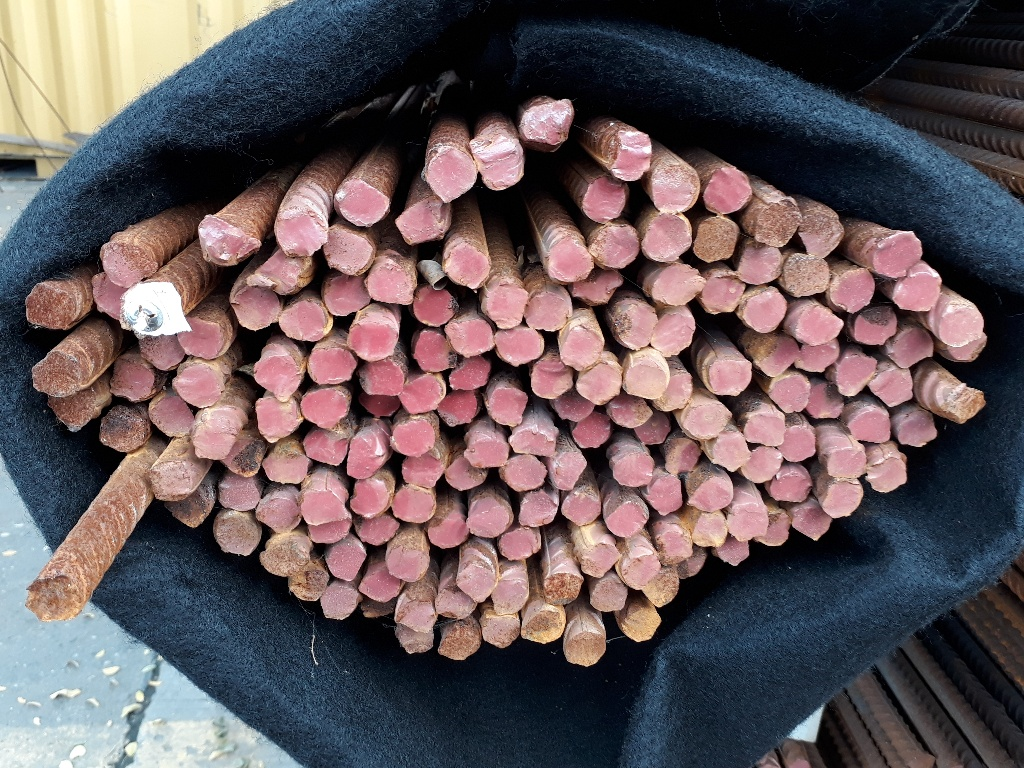dipstick: (194, 216, 261, 264), (471, 137, 525, 191), (649, 161, 701, 217), (518, 97, 579, 144), (333, 179, 390, 229), (252, 349, 307, 400), (426, 147, 476, 203), (230, 280, 287, 329), (871, 234, 926, 282), (347, 311, 398, 362), (26, 575, 79, 624), (252, 395, 302, 445), (641, 215, 693, 262), (322, 227, 374, 274), (607, 130, 653, 182), (652, 262, 705, 307), (162, 481, 211, 529), (98, 408, 150, 453), (704, 168, 751, 217), (611, 298, 658, 347), (260, 439, 310, 485), (368, 259, 416, 306), (120, 289, 169, 335), (274, 212, 324, 257), (588, 226, 640, 269), (936, 379, 985, 424), (827, 269, 875, 314), (530, 351, 575, 399), (781, 252, 831, 295), (174, 364, 223, 407), (576, 359, 622, 404), (481, 285, 527, 330), (324, 274, 369, 320), (192, 414, 238, 459), (799, 212, 843, 259), (692, 220, 739, 264), (557, 325, 604, 369), (410, 328, 457, 372), (212, 512, 259, 556), (581, 179, 629, 222), (442, 246, 490, 289), (45, 389, 93, 432), (684, 469, 733, 511), (146, 394, 195, 436), (751, 334, 801, 375), (681, 398, 731, 439), (739, 289, 786, 332), (643, 468, 686, 515), (101, 244, 149, 286), (495, 326, 545, 366), (31, 354, 81, 394), (651, 312, 696, 356), (891, 273, 943, 311), (278, 302, 330, 340), (602, 496, 649, 538), (794, 305, 843, 345), (446, 316, 495, 356), (396, 374, 445, 414), (137, 332, 186, 372), (345, 429, 384, 479), (111, 357, 155, 401), (220, 433, 265, 476), (936, 304, 983, 345), (706, 358, 754, 398), (254, 254, 303, 293), (885, 328, 935, 366), (306, 349, 356, 387), (836, 353, 879, 397), (324, 539, 368, 582), (175, 321, 226, 358), (756, 202, 797, 248), (301, 389, 348, 429), (254, 494, 301, 534), (26, 287, 69, 330), (651, 522, 695, 564), (546, 242, 591, 283), (260, 540, 310, 576), (146, 460, 191, 500), (615, 549, 661, 588), (395, 205, 441, 244), (389, 486, 436, 524), (699, 273, 742, 314), (411, 284, 455, 324), (464, 499, 509, 538), (360, 564, 406, 602), (684, 510, 728, 549), (871, 367, 916, 405), (524, 292, 569, 330), (301, 429, 346, 467), (350, 478, 391, 519), (768, 375, 811, 414), (360, 359, 404, 397), (91, 275, 129, 319), (623, 362, 668, 399), (389, 421, 436, 456), (896, 408, 937, 447), (742, 445, 783, 484), (576, 542, 618, 580), (427, 511, 469, 549), (848, 409, 891, 446), (821, 482, 864, 519), (286, 562, 329, 599), (572, 274, 625, 304), (867, 454, 907, 493), (726, 504, 767, 542), (298, 491, 345, 524), (656, 371, 692, 414), (516, 493, 561, 527), (220, 473, 259, 512), (621, 604, 661, 642), (547, 452, 587, 490), (487, 387, 527, 425), (564, 632, 606, 668), (522, 609, 564, 645), (436, 625, 478, 661), (854, 309, 897, 344), (791, 504, 831, 541), (663, 434, 700, 474), (614, 452, 654, 489), (571, 411, 611, 448), (466, 433, 507, 469), (449, 357, 491, 392), (401, 456, 445, 489), (321, 583, 360, 620), (560, 493, 601, 528), (510, 428, 556, 459), (591, 574, 628, 612), (456, 566, 494, 603), (745, 410, 784, 446), (643, 568, 678, 608), (436, 391, 476, 426), (479, 614, 519, 648), (497, 529, 541, 559), (539, 574, 581, 605), (356, 514, 398, 545), (778, 427, 816, 461), (713, 433, 747, 471), (386, 550, 426, 582), (445, 459, 487, 489), (395, 602, 437, 632), (801, 338, 838, 372), (493, 580, 530, 614), (553, 390, 594, 420), (826, 449, 864, 481), (756, 509, 788, 547), (608, 399, 651, 427), (436, 590, 477, 619), (809, 383, 842, 419), (770, 474, 810, 503), (306, 519, 351, 543), (949, 331, 986, 360), (714, 537, 751, 566), (359, 389, 398, 416), (396, 629, 437, 654), (637, 415, 671, 445), (673, 552, 706, 579)
